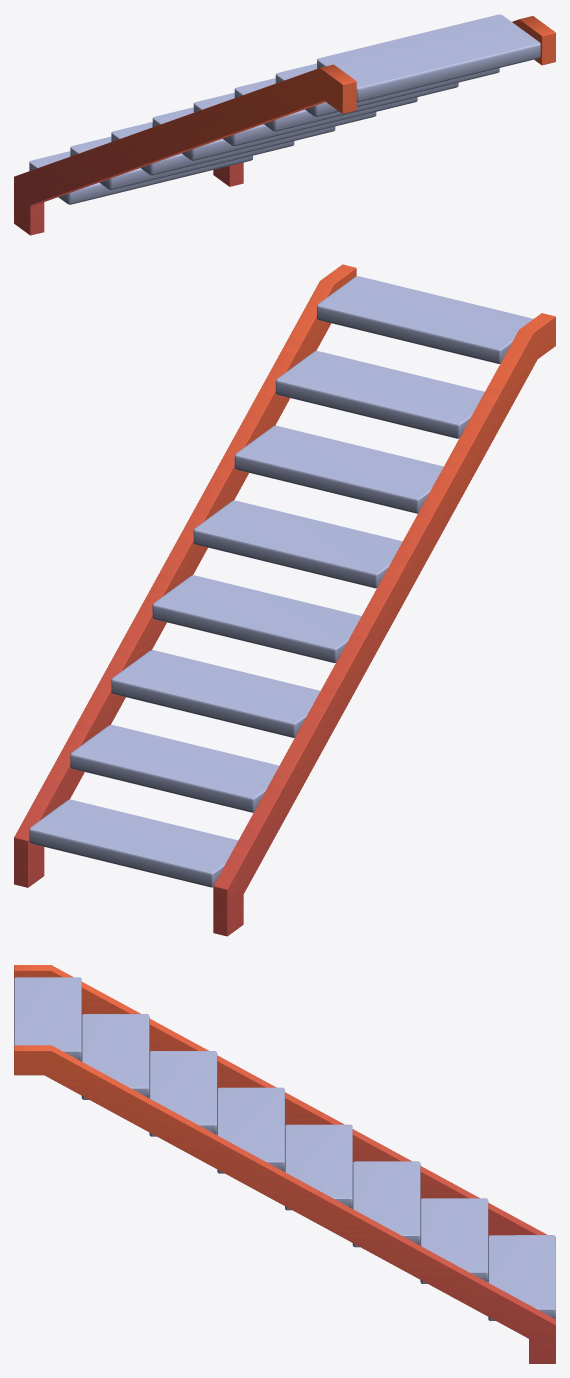
Rendered from stairs-sides.glb.
3 renders of one model, top to bottom at view 1: azimuth 30°, elevation 25°; view 2: azimuth 150°, elevation 25°; view 3: azimuth 270°, elevation 25°, orthographic. The views are drawn at different scales.
Parts seen in each view (by area): view 1: stairs-sides, Group, Group.001; view 2: stairs-sides, Group, Group.001; view 3: stairs-sides, Group.001, Group.
Boxes of the visible parts, x1,y1,x2,y2 form: stairs-sides: [29, 14, 540, 204]; Group: [14, 64, 356, 235]; Group.001: [213, 16, 555, 186]; stairs-sides: [29, 276, 533, 887]; Group: [213, 313, 555, 936]; Group.001: [14, 264, 356, 887]; stairs-sides: [14, 977, 555, 1320]; Group.001: [14, 1045, 555, 1363]; Group: [14, 965, 547, 1236].
Size of the model in its own units: 1.5 by 2.55 by 4.
3 materials, 3 textured.
